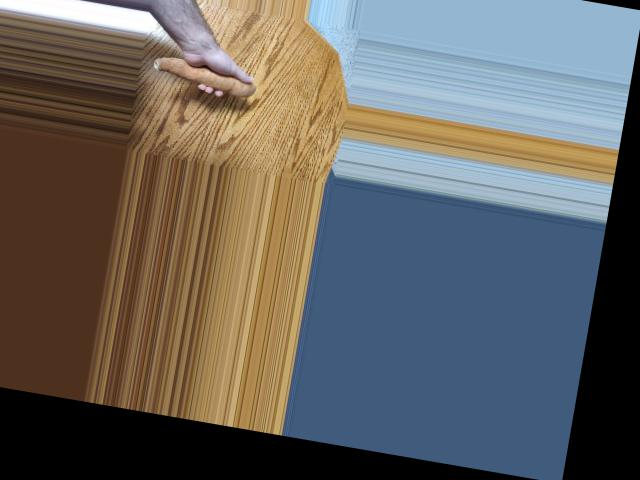sweet_potato: (150, 51, 257, 103)
